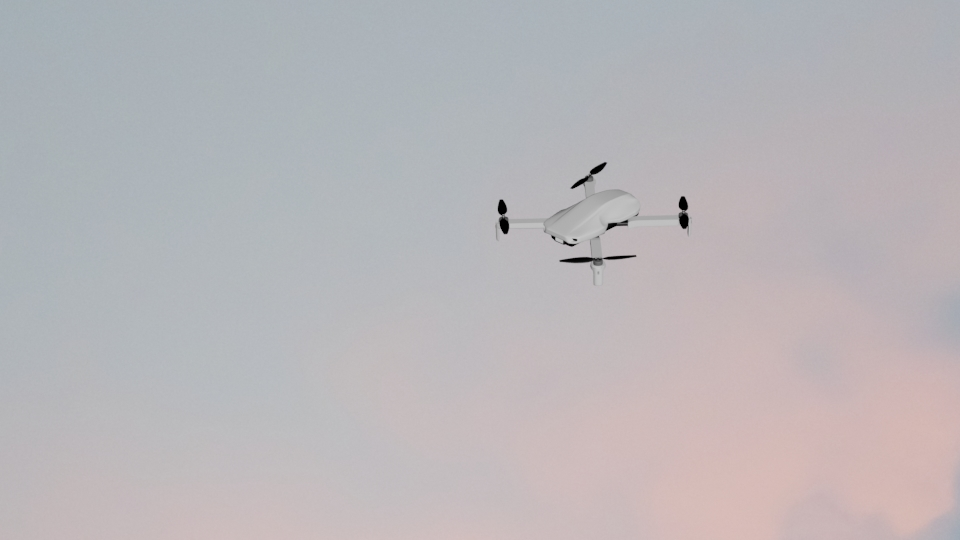drone: (495, 159, 690, 284)
